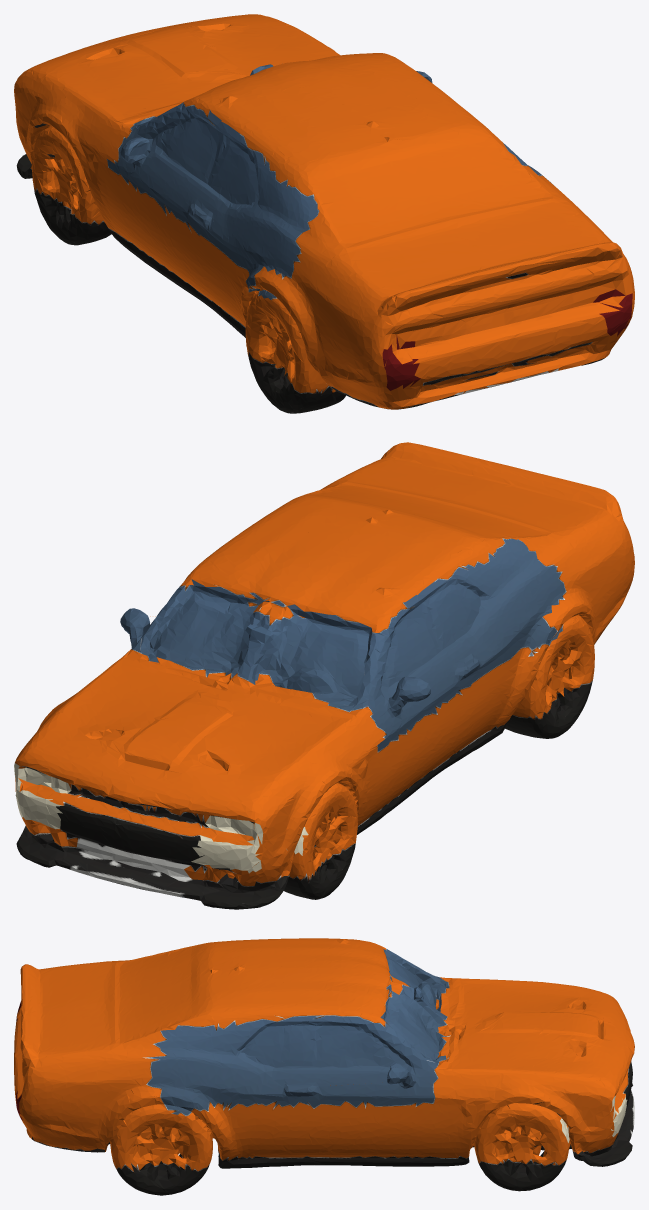
The model's file is challenger.glb.
The picture shows the model from 3 angles, top to bottom: view 1: azimuth 30°, elevation 25°; view 2: azimuth 150°, elevation 25°; view 3: azimuth 270°, elevation 25°; orthographic projection. The views are drawn at different scales.
Parts seen in each view (by area): view 1: body, taillights_rear; view 2: body, headlights_front; view 3: body, headlights_front.
Part boxes in pixels (x1,y1,x2,y2): body: (14,14,634,413); taillights_rear: (382,289,632,390); body: (15,442,634,909); headlights_front: (14,763,308,873); body: (14,938,634,1195); headlights_front: (560,1095,627,1142).
Bounding box in the file's own units: 96.8 × 66.16 × 212.
3 materials, 1 textured.
